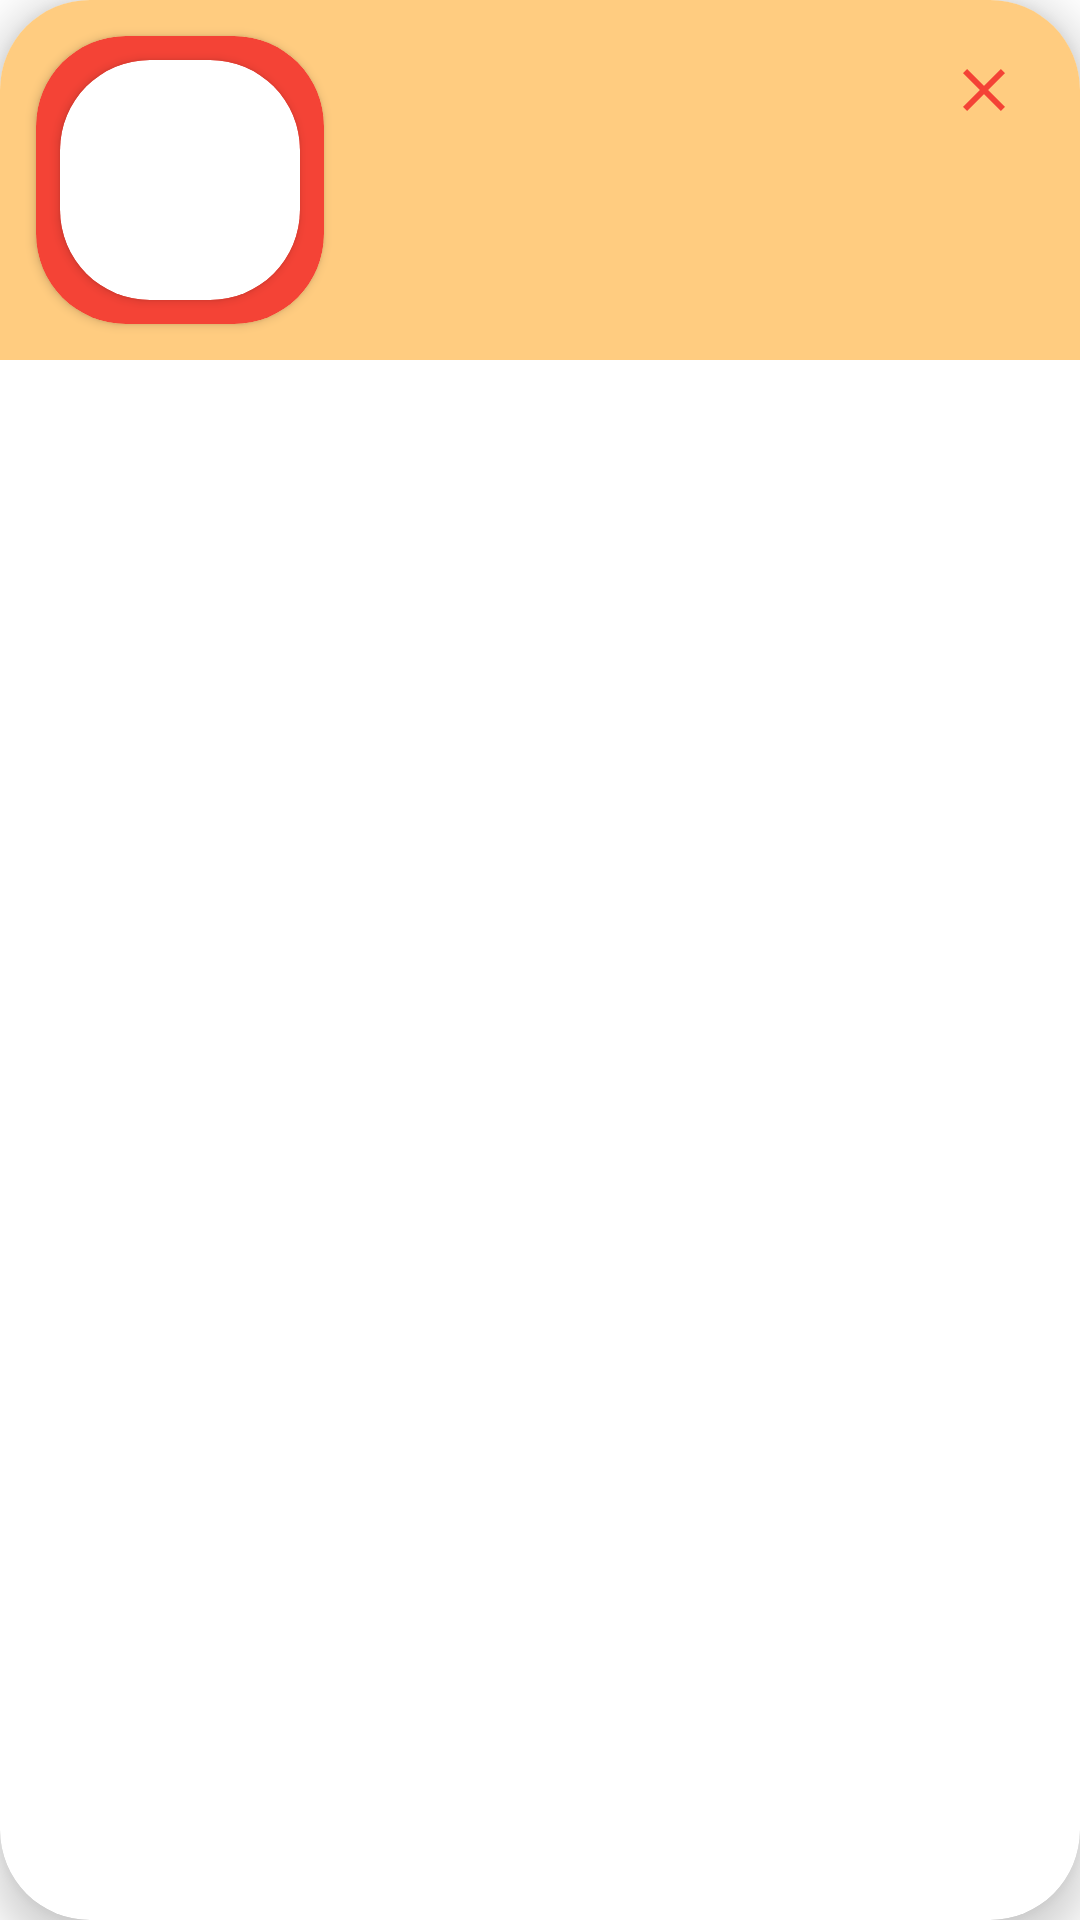

Where icons sit on this 1080px×1920px app screen, as (x1, y1, x2, y2):
close: (963, 69, 1005, 111)
